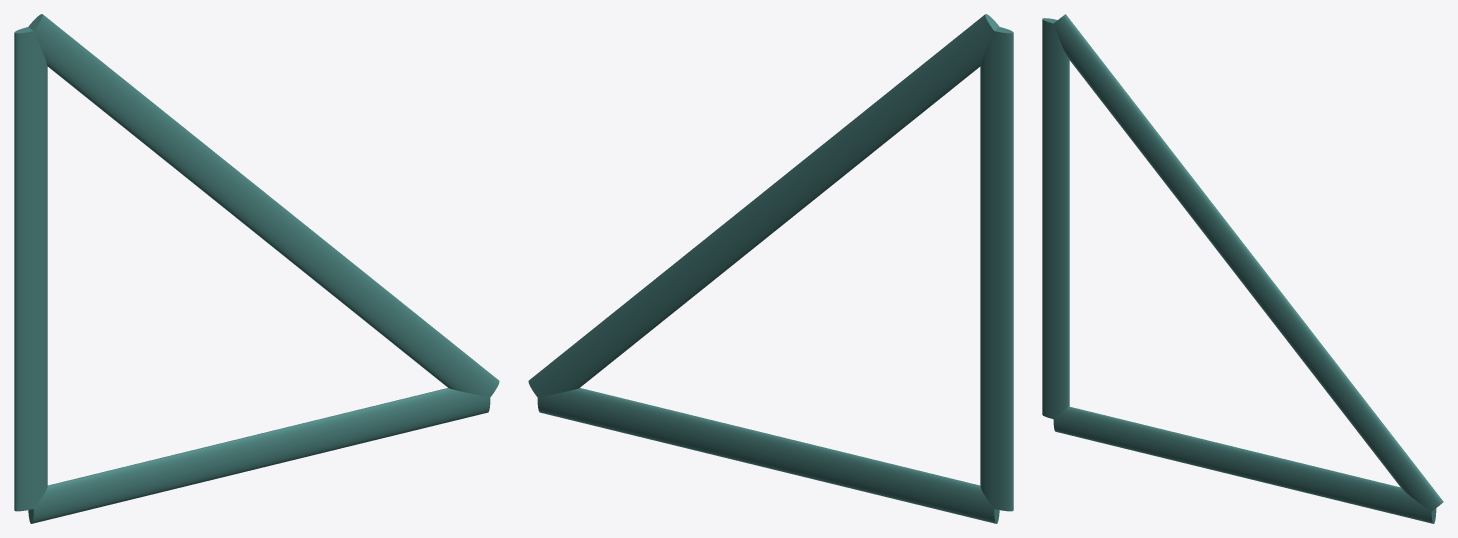
Rendered from wp-equerre-scolaire.glb.
3 views of the same model, side by side, from view 1: azimuth 30°, elevation 25°; view 2: azimuth 150°, elevation 25°; view 3: azimuth 330°, elevation 25° (orthographic). The views are drawn at different scales.
Visible parts, largest first — view 1: wp-equerre-scolaire; view 2: wp-equerre-scolaire; view 3: wp-equerre-scolaire.
Part boxes in pixels (box(x1,y1,x2,y2)): wp-equerre-scolaire: box(14, 14, 499, 523); wp-equerre-scolaire: box(528, 14, 1013, 523); wp-equerre-scolaire: box(1042, 14, 1443, 523).
Size of the model in its own units: 0.2 by 0.2 by 0.004.
